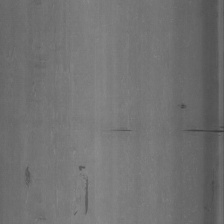crease: (77, 154, 95, 220)
